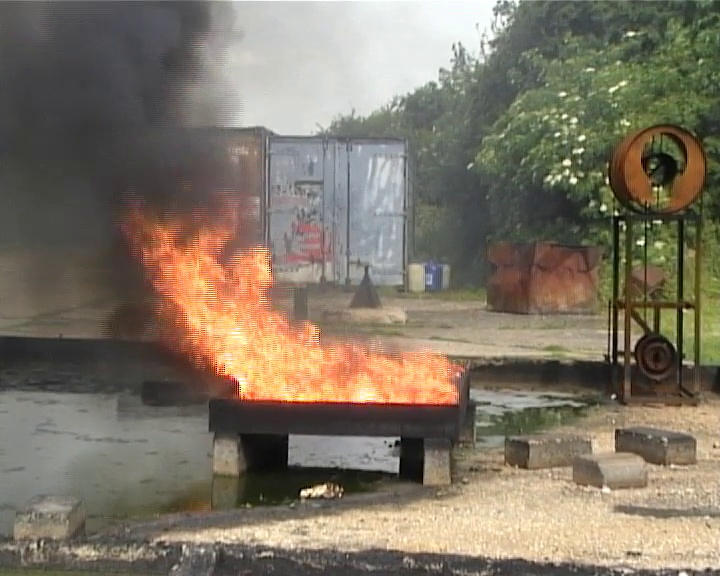fire: (148, 226, 456, 404), (300, 480, 343, 497)
